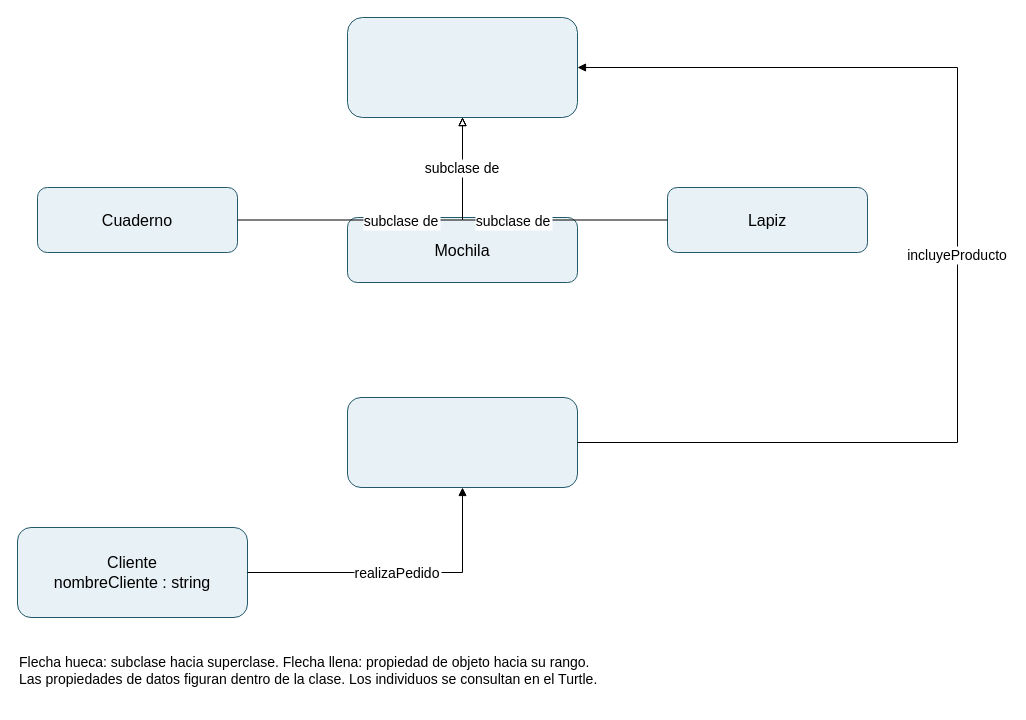
Image size: 1026x720. Some labels were removed from this diagram. Each missing label, with the box of its shape:
Pedido fechaPedido : date: (346, 396, 578, 488)
Producto nombreProducto : string precioUnitario : decimal: (346, 16, 578, 118)
